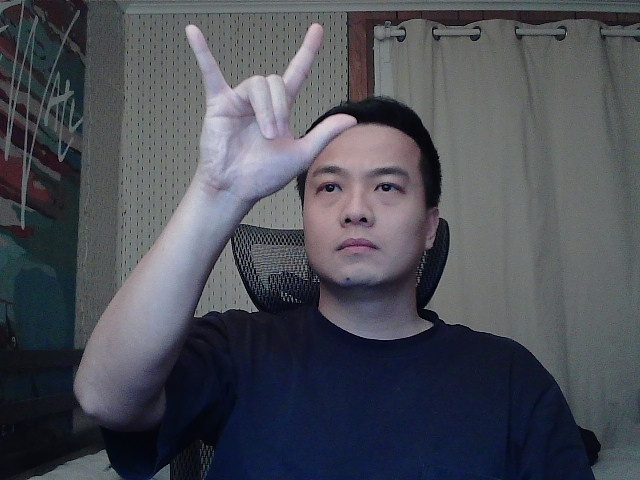I Love You: (173, 9, 361, 212)
